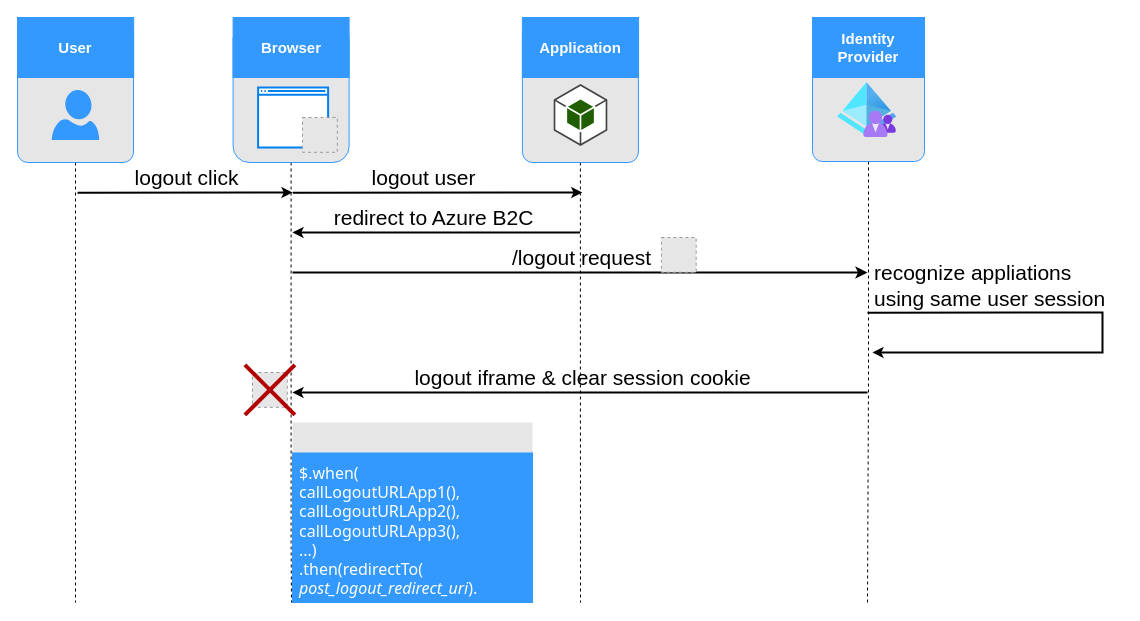
Image size: 1140x621. Some labels were removed from this diagram. Grey dashed boxes stand in for pictures. The centre of each missing label's shape, as x and y in pixels:
"Azure B2C" belongs at pixel 866 109.
"iframe" belongs at pixel 412 437.
